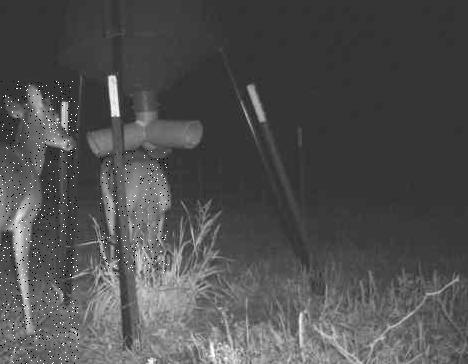Deer: (0, 81, 79, 364), (101, 151, 170, 275)
